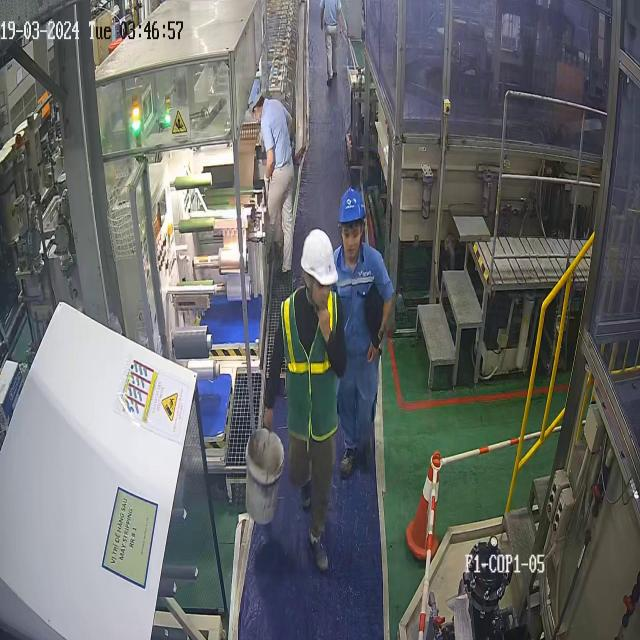Person: (262, 228, 347, 572), (332, 187, 394, 479), (247, 78, 306, 274), (319, 0, 343, 87)
